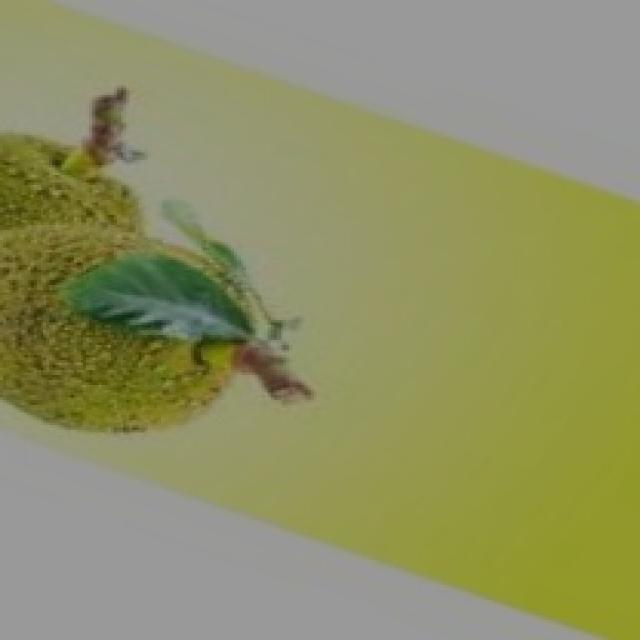Fruit: (0, 105, 302, 480)
